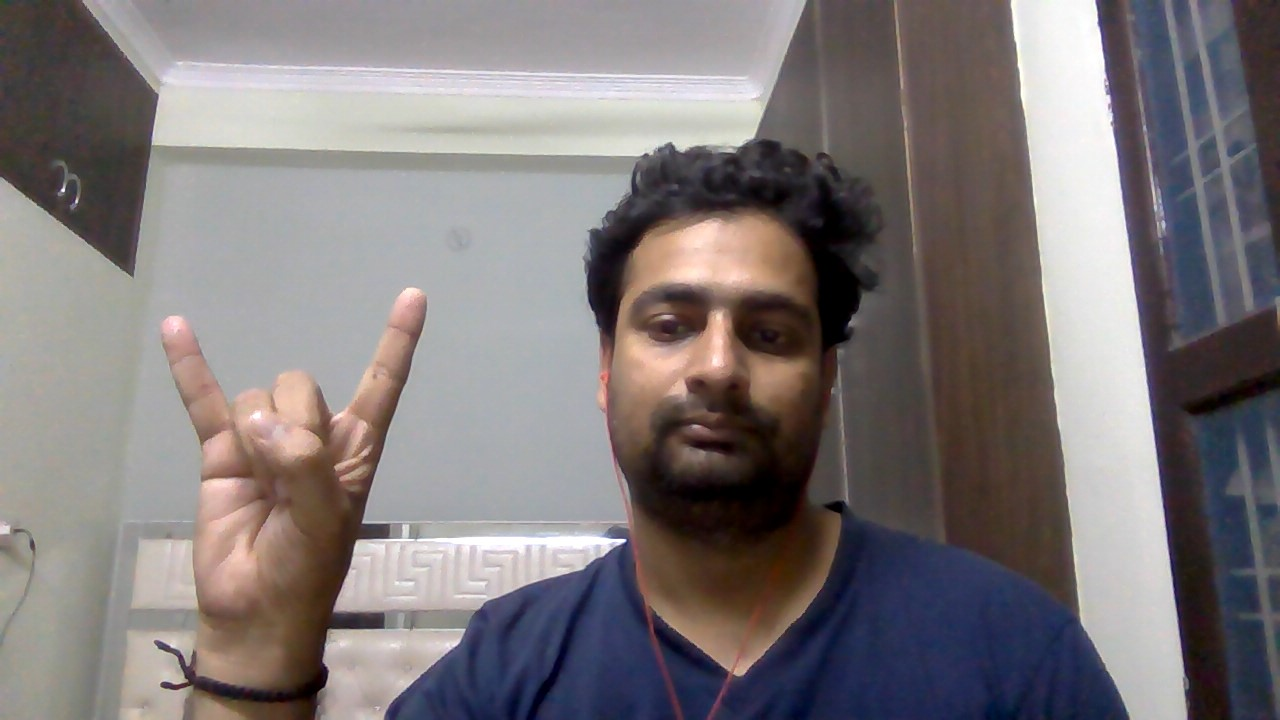Select All: (138, 282, 444, 632)
